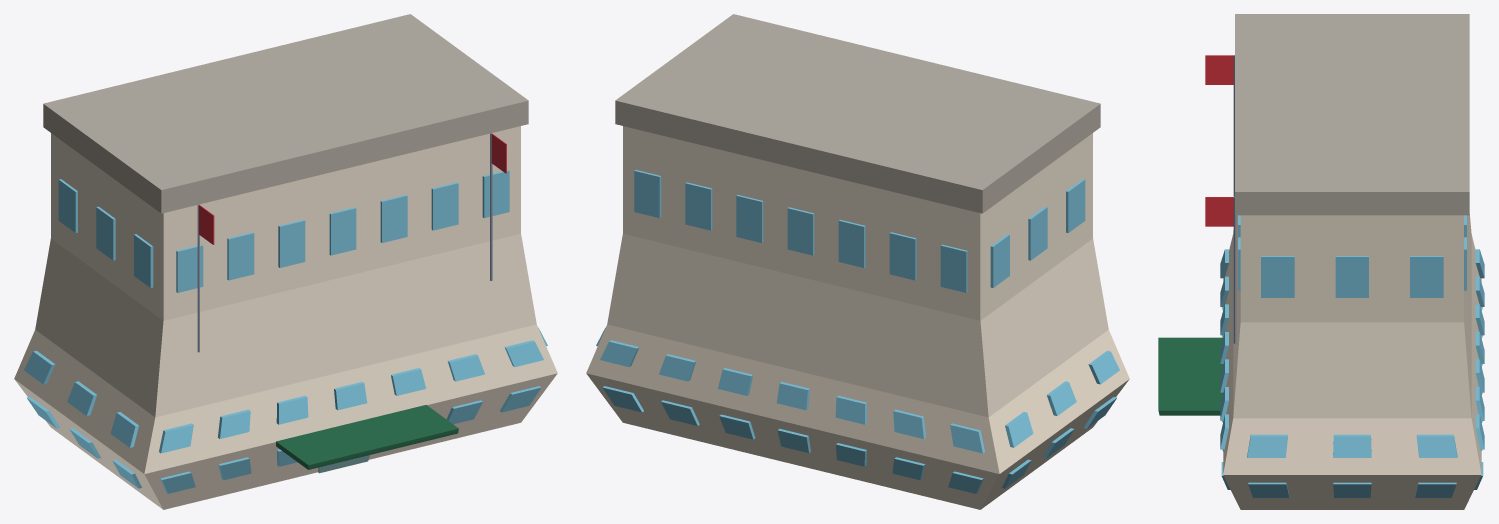
File: hotel.glb
3 views of the same model, side by side, from view 1: azimuth 30°, elevation 25°; view 2: azimuth 150°, elevation 25°; view 3: azimuth 270°, elevation 25° (orthographic).
Visible parts, largest first — view 1: hotel_wall_cream, hotel_roof_flat, hotel_window, hotel_pub_green, hotel_red, hotel_metal; view 2: hotel_wall_cream, hotel_roof_flat, hotel_window; view 3: hotel_wall_cream, hotel_roof_flat, hotel_window, hotel_pub_green, hotel_red, hotel_metal.
Part boxes in pixels (x1,y1,x2,y2): hotel_wall_cream: (14, 126, 557, 509); hotel_roof_flat: (43, 14, 528, 213); hotel_window: (24, 170, 547, 493); hotel_pub_green: (276, 405, 458, 469); hotel_red: (199, 133, 506, 244); hotel_metal: (197, 133, 492, 352); hotel_wall_cream: (586, 126, 1129, 509); hotel_roof_flat: (615, 14, 1100, 213); hotel_window: (596, 170, 1119, 493); hotel_wall_cream: (1223, 214, 1481, 509); hotel_roof_flat: (1235, 14, 1469, 215); hotel_window: (1220, 215, 1484, 497); hotel_pub_green: (1158, 337, 1223, 415); hotel_red: (1205, 55, 1234, 226); hotel_metal: (1233, 55, 1236, 343).
Bounding box in the file's own units: 26.76 × 19.75 × 18.21.
